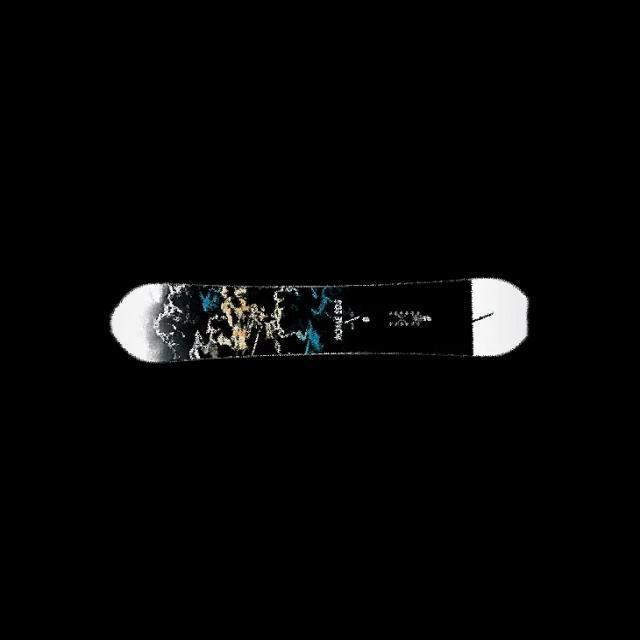Snowboard: (109, 275, 530, 363)
